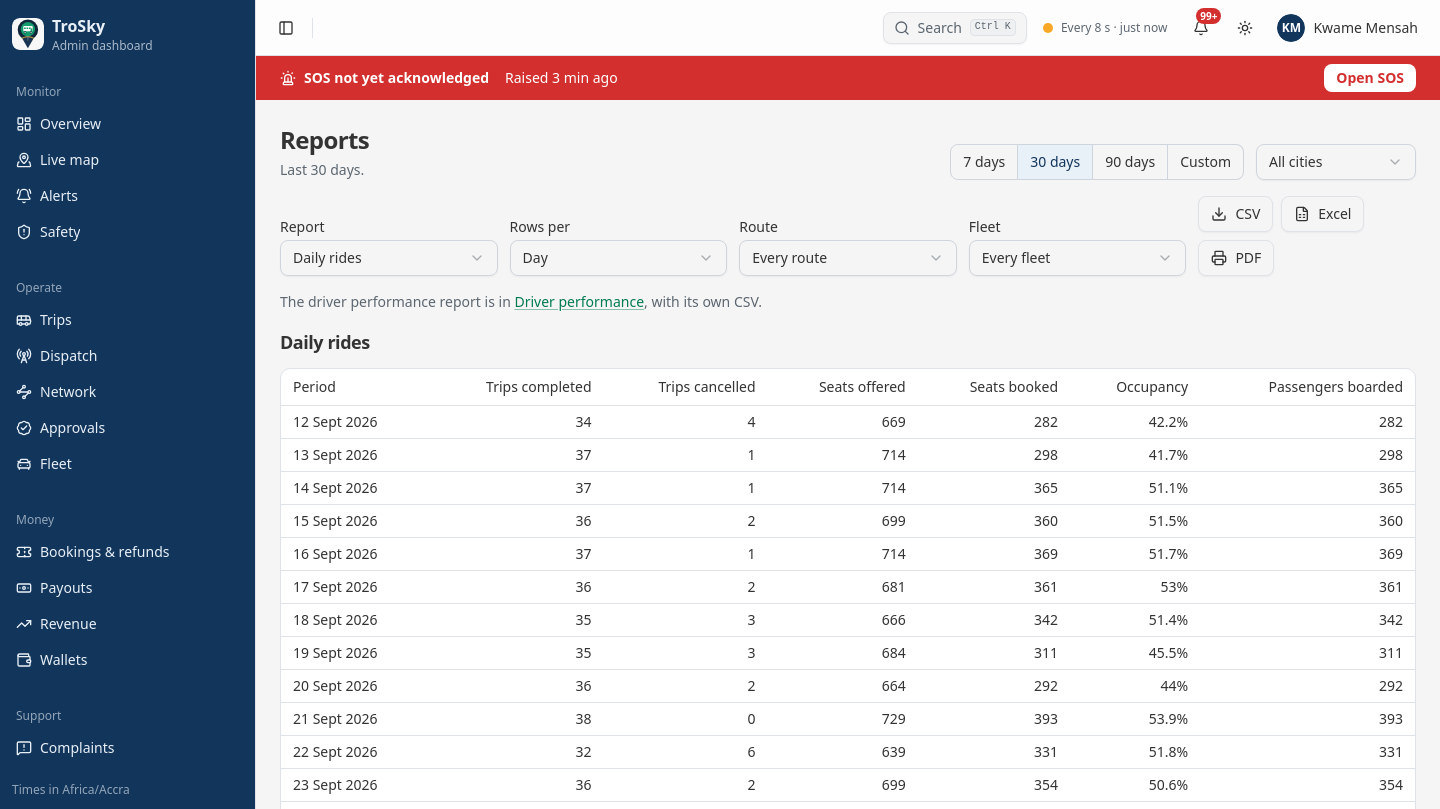
Scenario: Reports › switches report, kept in the address
The width and height of the screenshot is (1440, 809).
Check: the dropdown named "Rows per" is shown, box [510,240,727,276]
Click the dropdown named "Report".
click(389, 258)  # box [280,240,498,276]
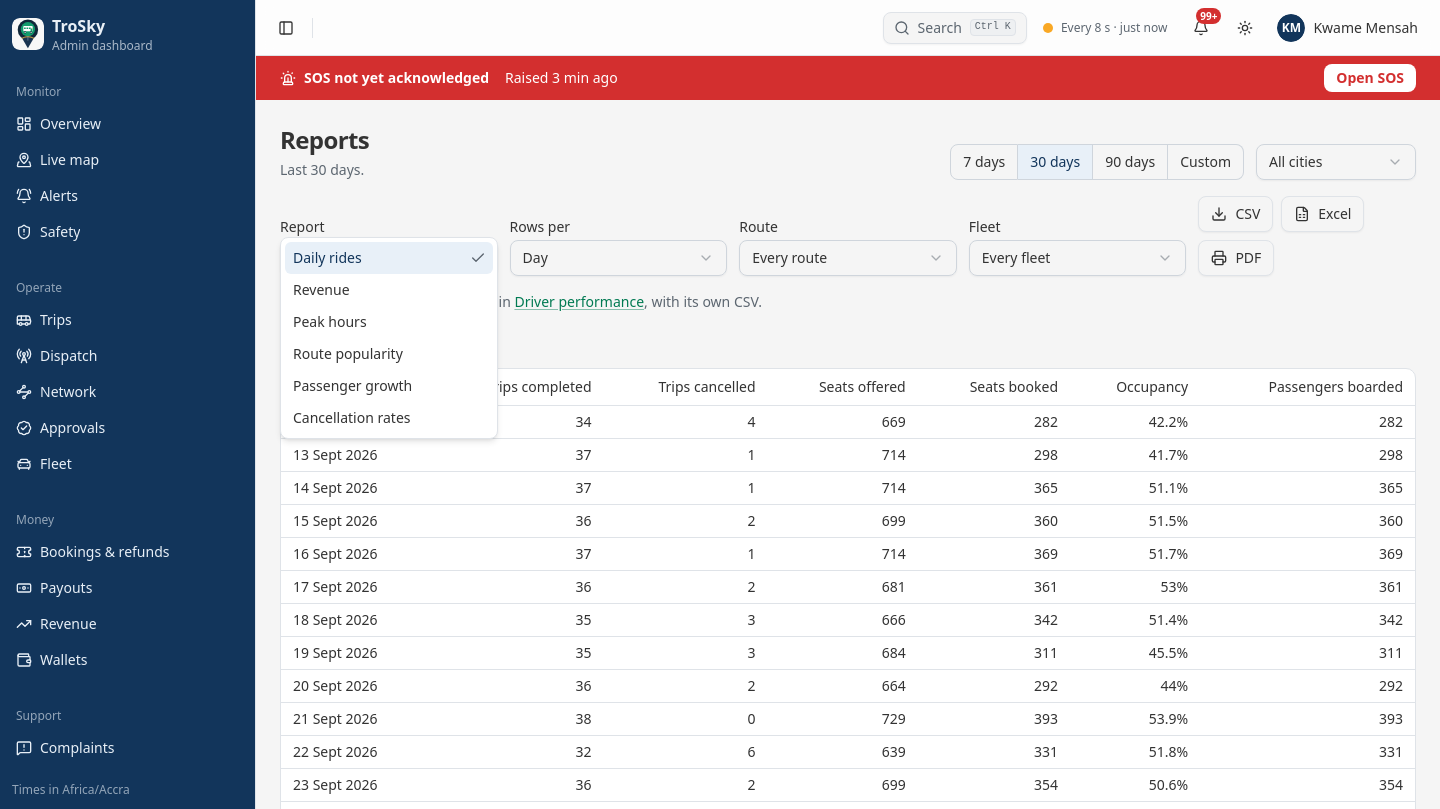
Click the option "Peak hours".
click(330, 322)  # box [293,312,367,331]
(page scrolled)
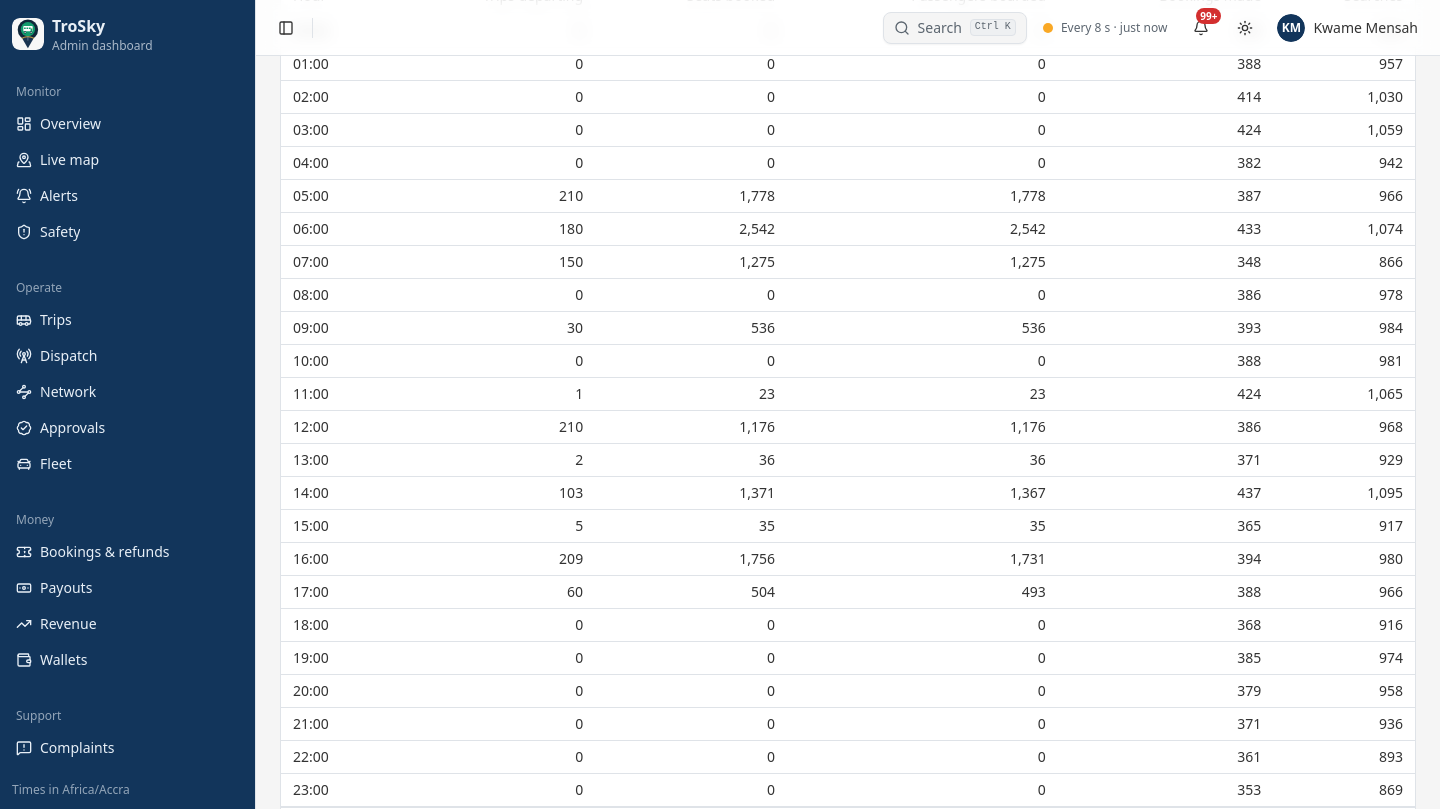
Check: the label "Rows per" is gone
